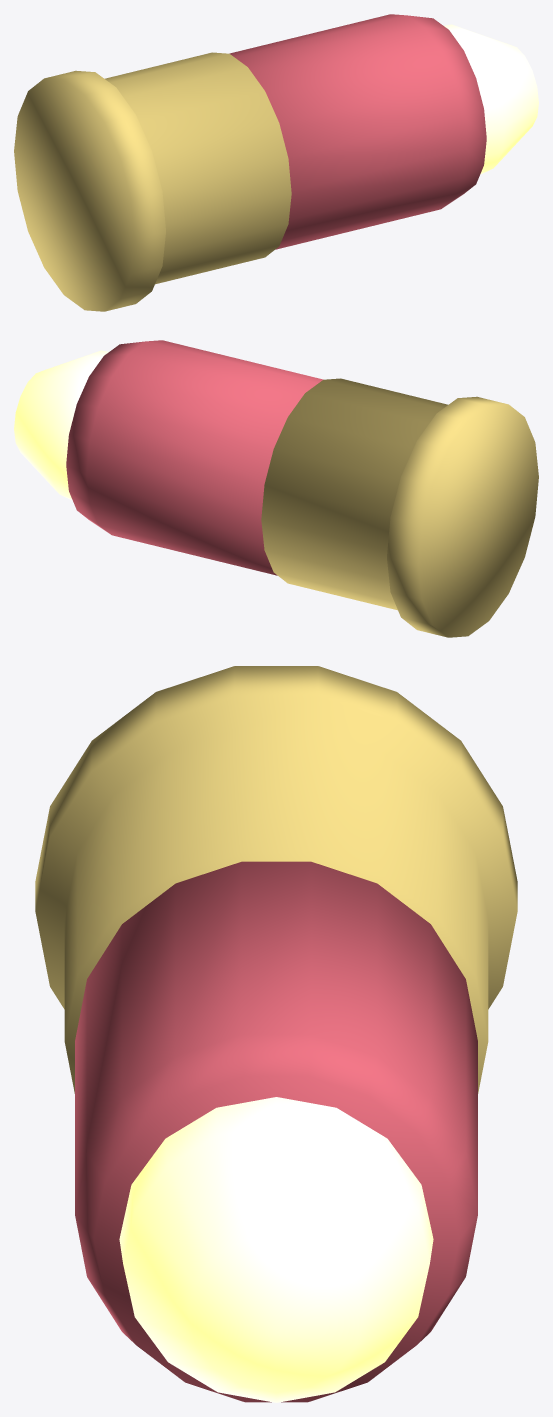
Rendered from shotgun_shell.glb.
3 views of the same model, one above another, from view 1: azimuth 30°, elevation 25°; view 2: azimuth 150°, elevation 25°; view 3: azimuth 270°, elevation 25° (orthographic). The views are drawn at different scales.
Visible parts, largest first — view 1: ShellHead, ShellHull, ShellSlug; view 2: ShellHead, ShellHull, ShellSlug; view 3: ShellHull, ShellHead, ShellSlug.
Part boxes in pixels (left/top/right/bottom): ShellHead: left=14, top=52, right=291, bottom=311; ShellHull: left=229, top=14, right=486, bottom=249; ShellSlug: left=444, top=24, right=538, bottom=174; ShellHead: left=261, top=378, right=538, bottom=637; ShellHull: left=66, top=340, right=323, bottom=575; ShellSlug: left=14, top=350, right=108, bottom=500; ShellHull: left=75, top=861, right=477, bottom=1402; ShellHead: left=35, top=666, right=517, bottom=1093; ShellSlug: left=119, top=1097, right=433, bottom=1402.
Bounding box in the file's own units: 0.73 × 0.325 × 0.33.
